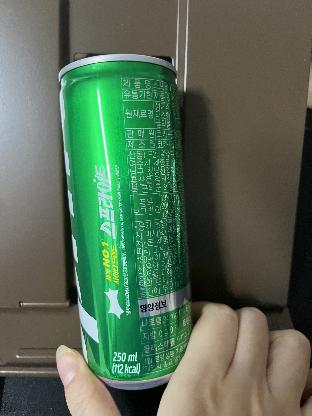Can: (56, 50, 200, 388)
